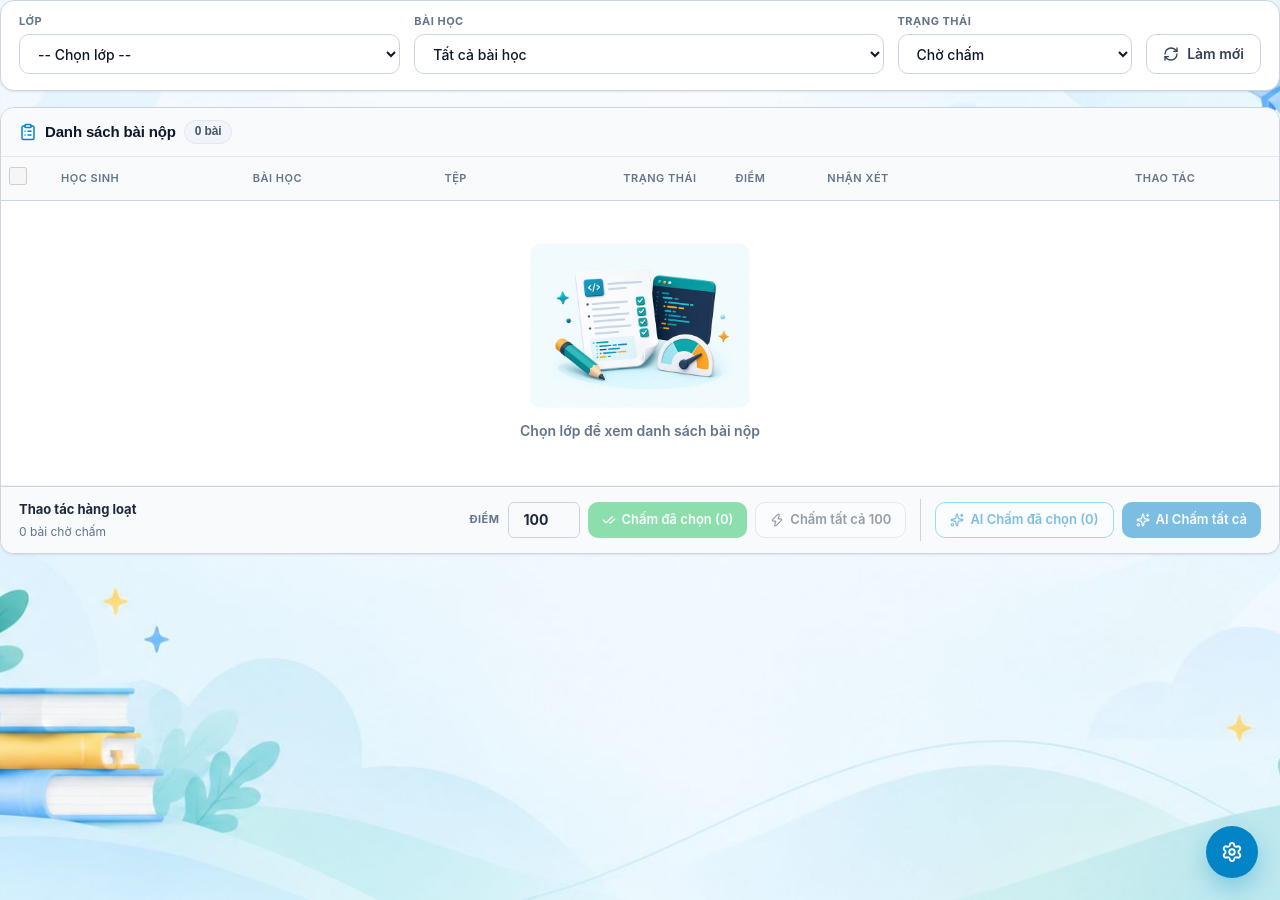
it: React homework page parity › retains score/note drafts across filters while clearing selection
Select "Lớp đang học" in the dropdown labelled "Lớp" at (210, 54), box [19,34,400,74]
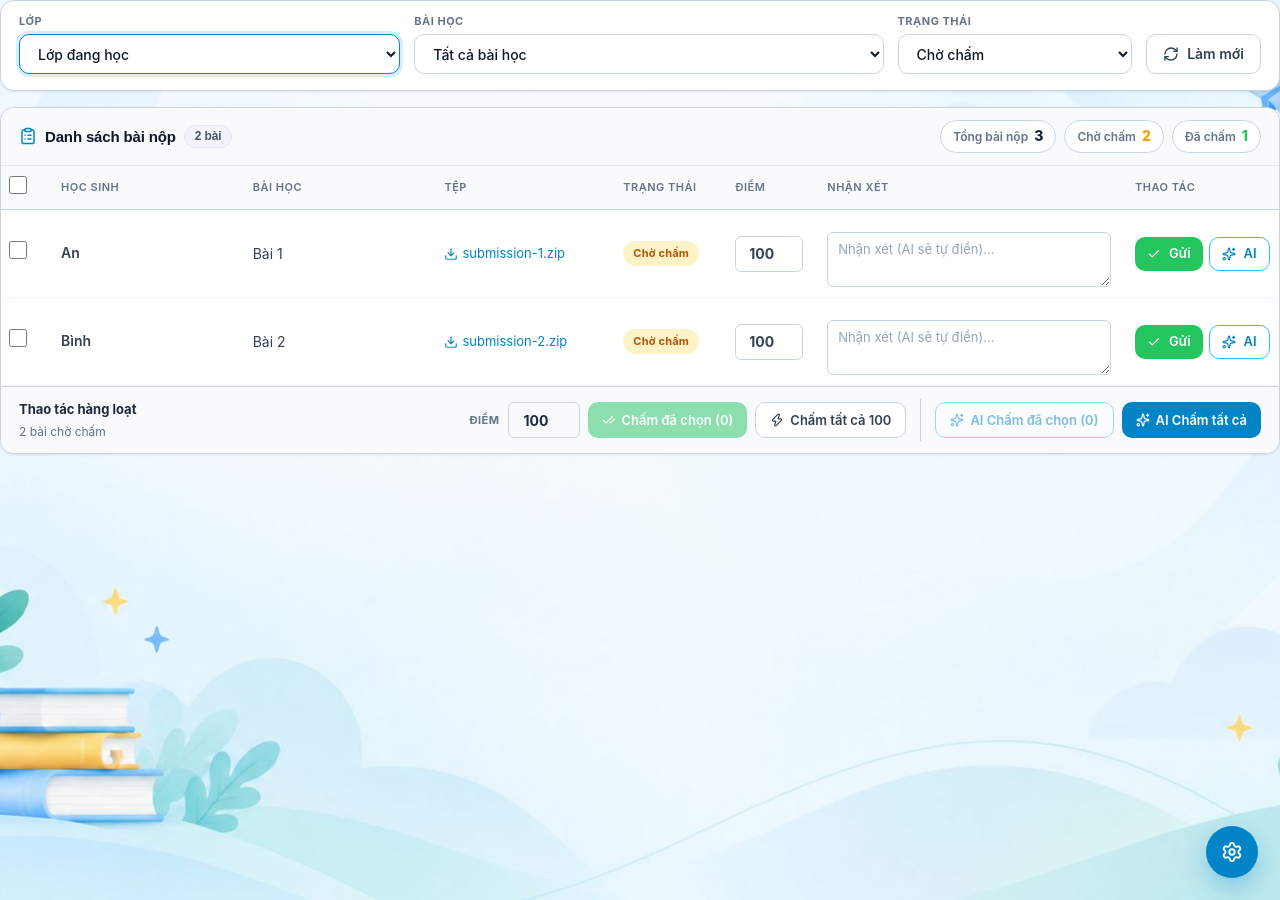
Expected: the cell "An" is shown, [49,210,241,298]
Replace the text in the number field named "Điểm của An" with "73" at (769, 254), box [735,236,803,272]
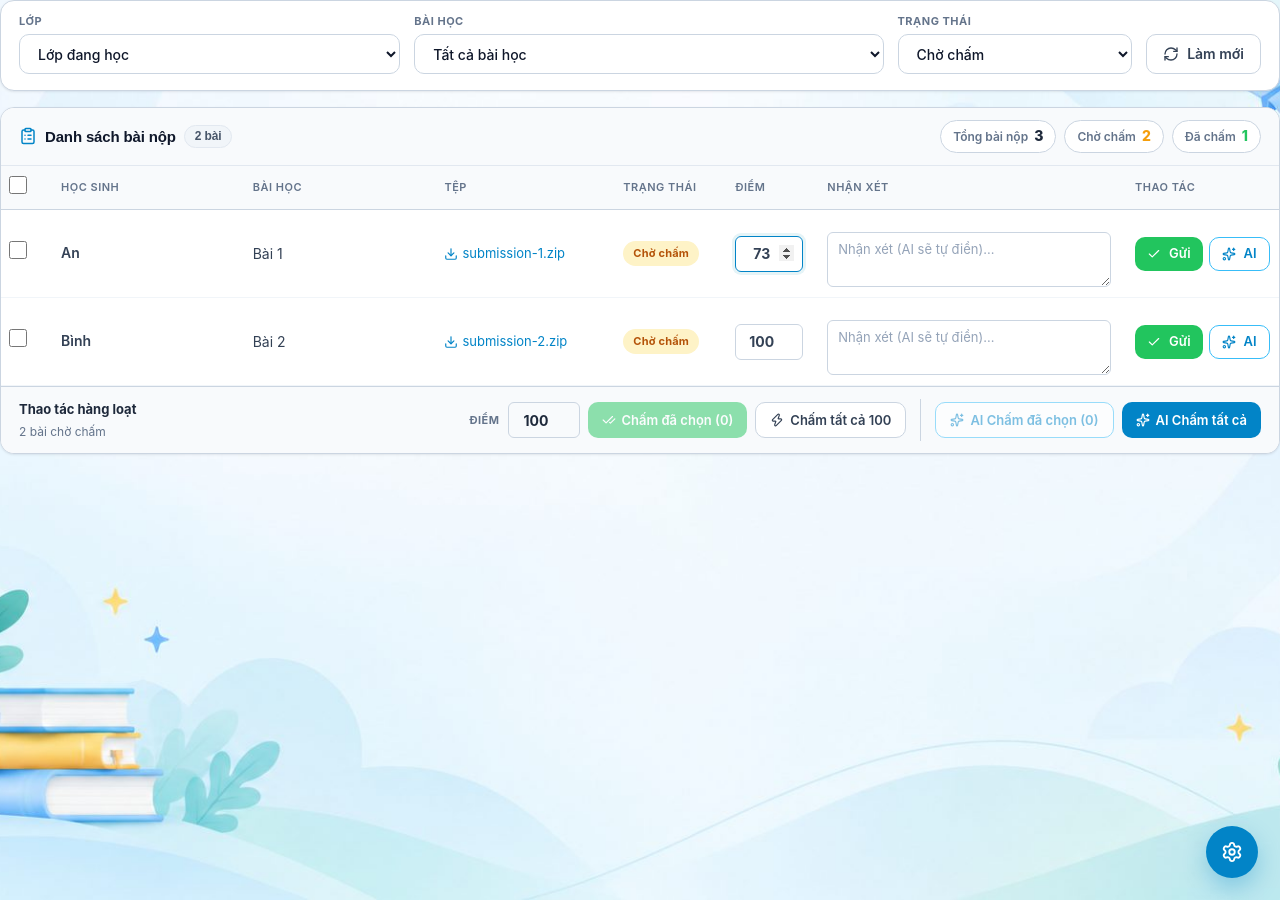
Type "Bản nháp giữ lại" into the text box named "Nhận xét cho An".
click(969, 260); type("Bản nháp giữ lại")  # box [827,232,1111,287]
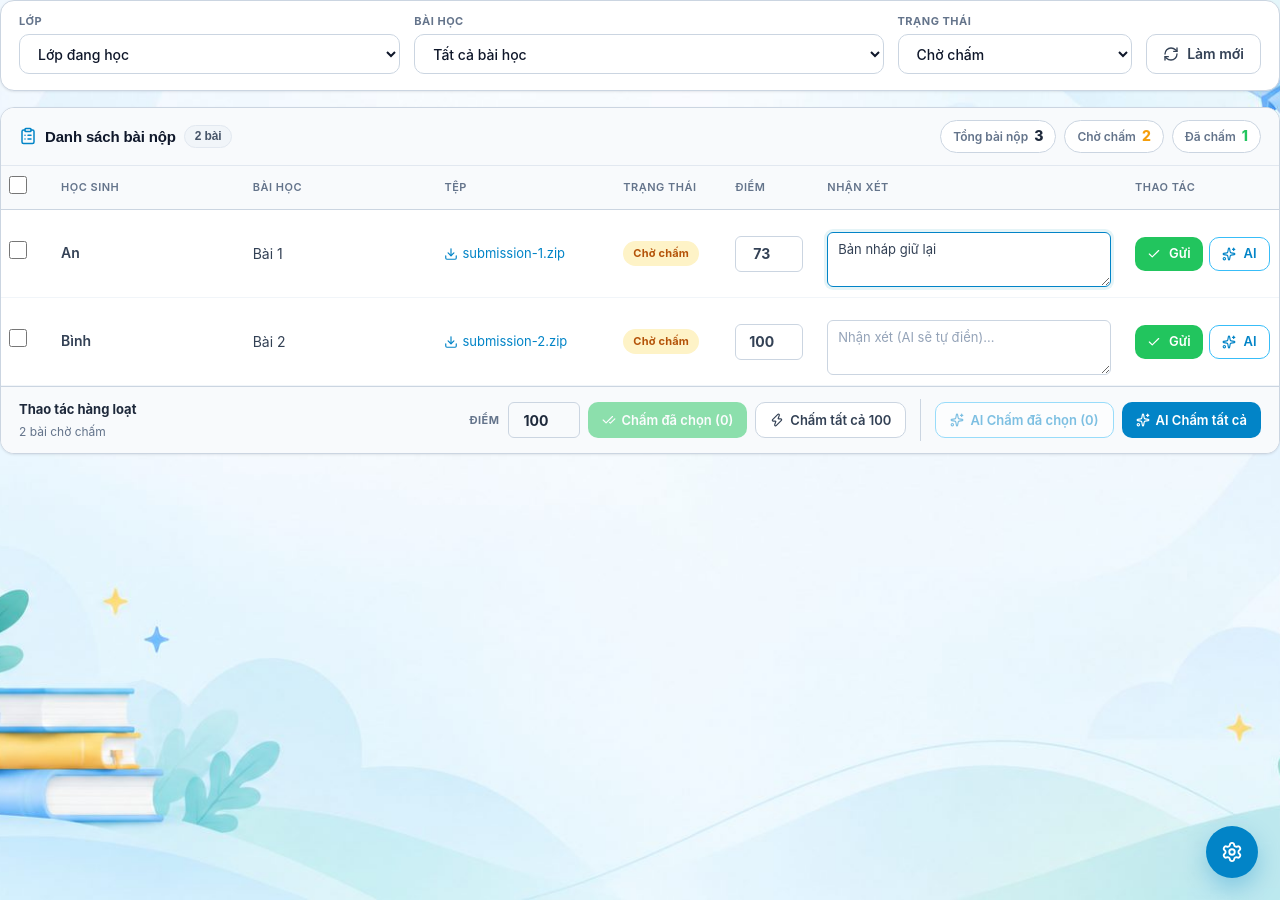
Click the checkbox named "Chọn bài của An".
click(18, 250)  # box [9,242,27,260]
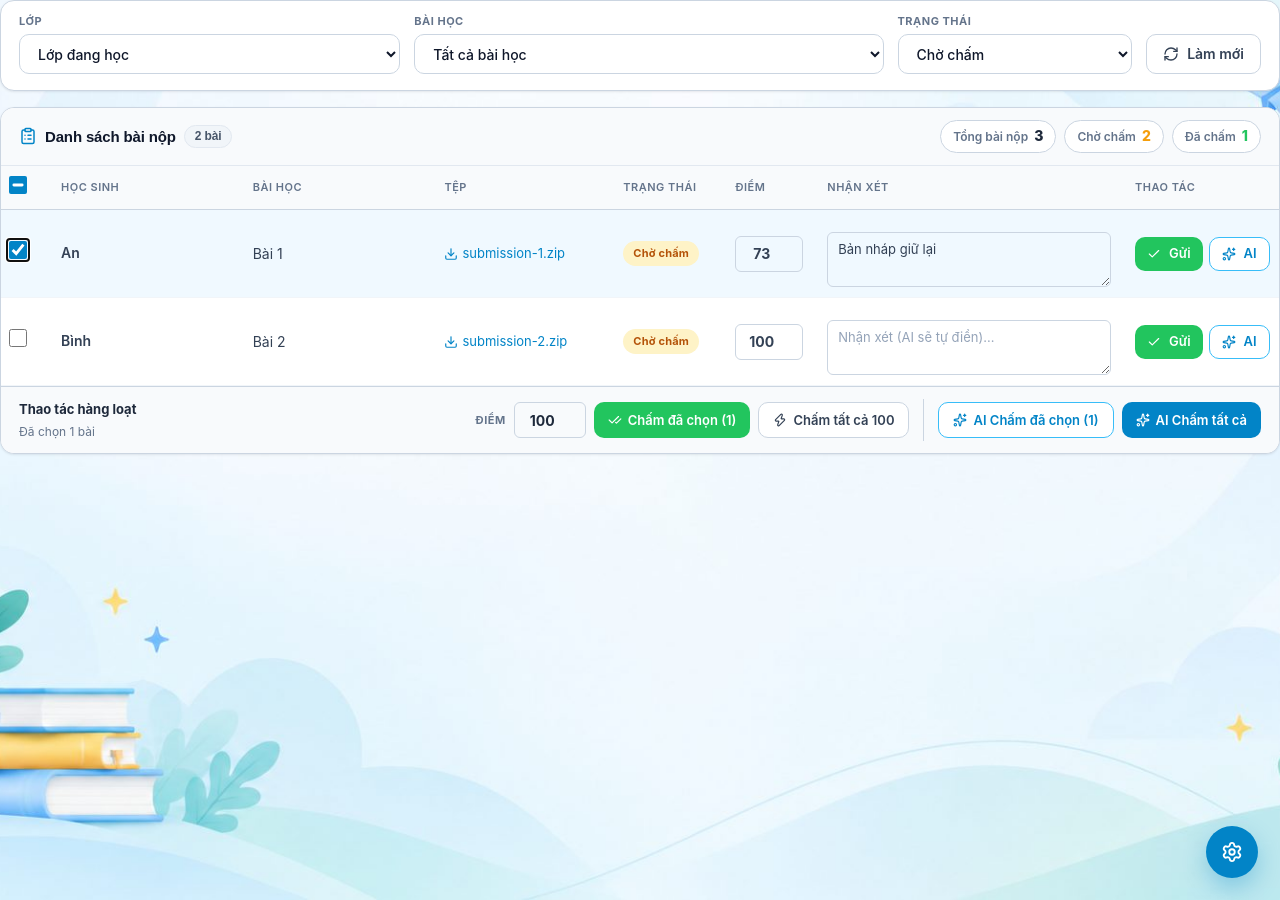
Expected: the button "Chấm đã chọn (1)" is enabled, [594,402,750,438]
Select "Bài 2" in the dropdown labelled "Bài học" at (649, 54), box [414,34,884,74]
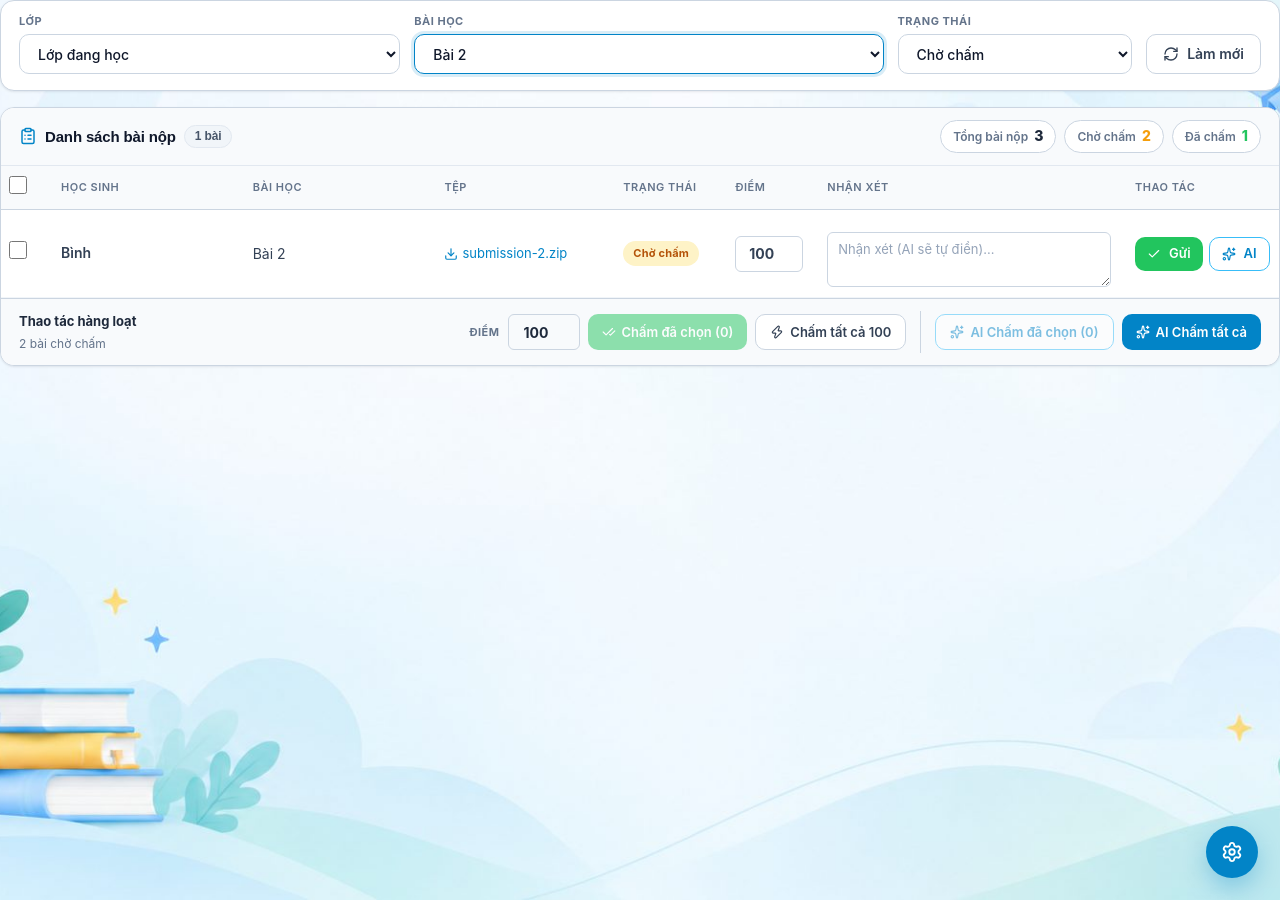
Expected: the button "Chấm đã chọn (0)" is disabled, [588,314,747,350]
Select "Bài 1" in the dropdown labelled "Bài học" at (649, 54), box [414,34,884,74]
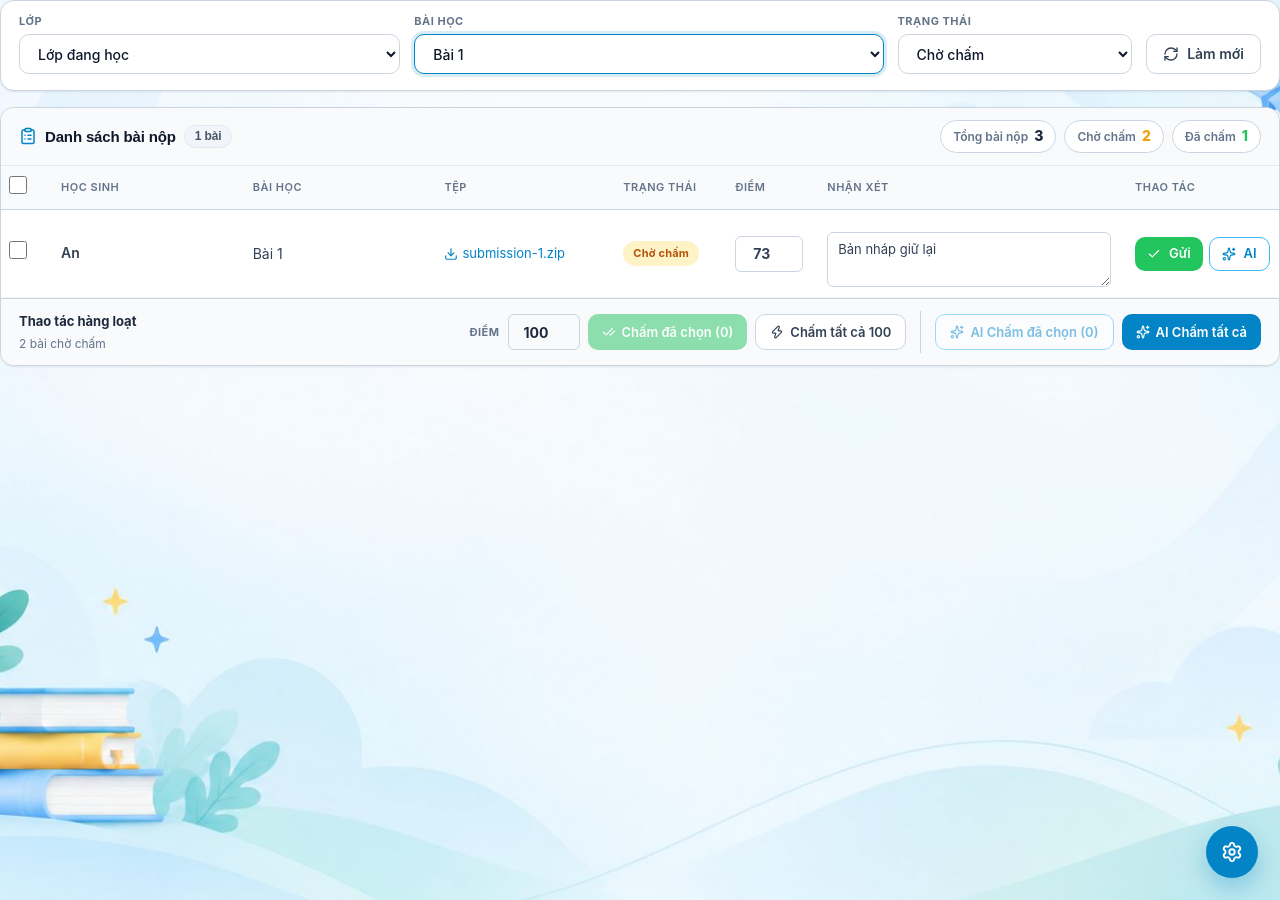
Expected: the number field named "Điểm của An" holds "73", [735,236,803,272]
Expected: the text box named "Nhận xét cho An" holds "Bản nháp giữ lại", [827,232,1111,287]
